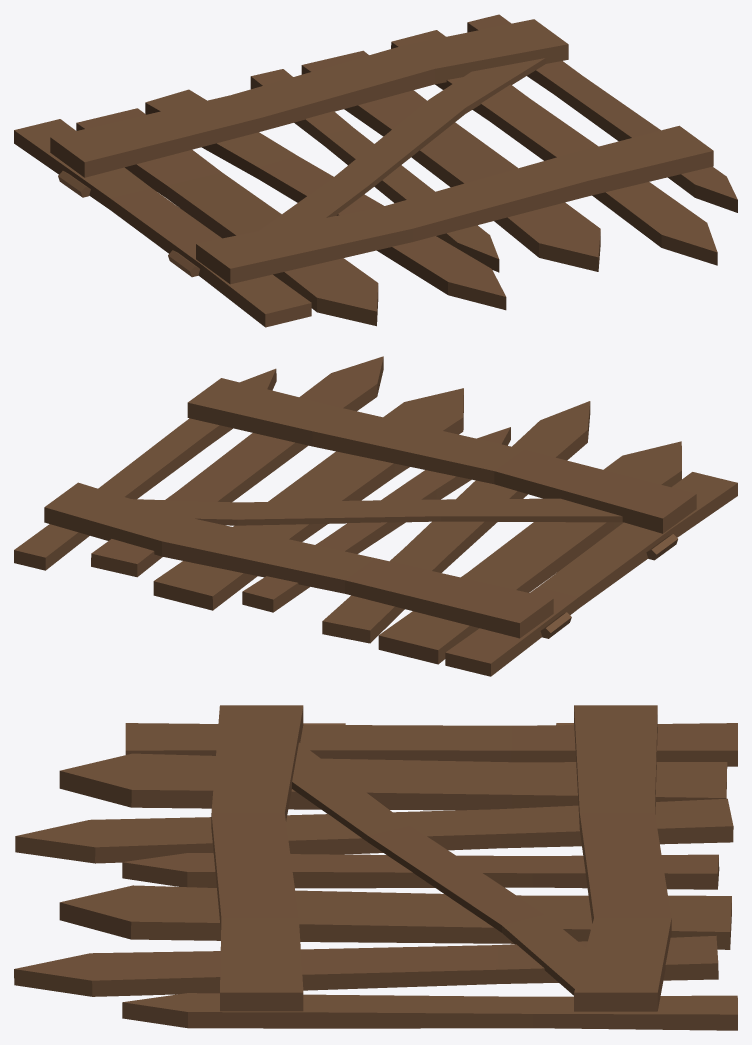
File: Barrier_01_Left_Destroy_portion.fbx
3 views of the same model, one above another, from view 1: azimuth 30°, elevation 25°; view 2: azimuth 150°, elevation 25°; view 3: azimuth 270°, elevation 25° (orthographic). The views are drawn at different scales.
Parts seen in each view (by area): view 1: barriere_1.bord gauche destroy portillon; view 2: barriere_1.bord gauche destroy portillon; view 3: barriere_1.bord gauche destroy portillon.
Part boxes in pixels (x1,y1,x2,y2): barriere_1.bord gauche destroy portillon: (14,14,737,327); barriere_1.bord gauche destroy portillon: (14,356,737,676); barriere_1.bord gauche destroy portillon: (14,705,737,1030).
Size of the model in its own units: 101 by 6.76 by 105.
